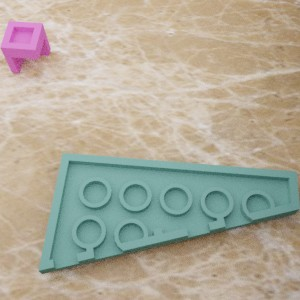lego: (38, 152, 299, 274), (0, 20, 50, 73)
